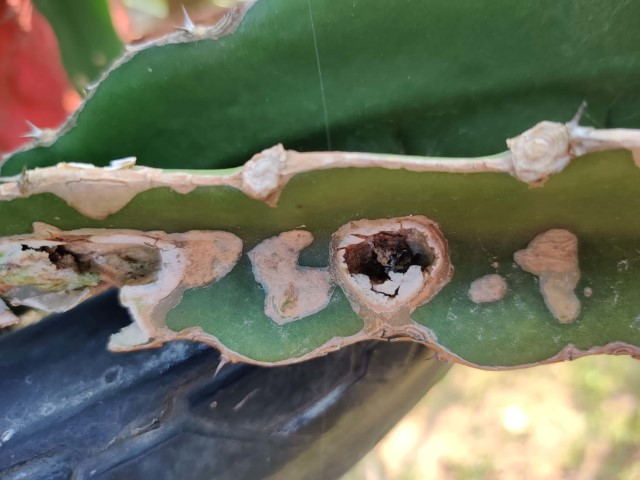stemcanker: (0, 228, 242, 316), (327, 208, 456, 318)
